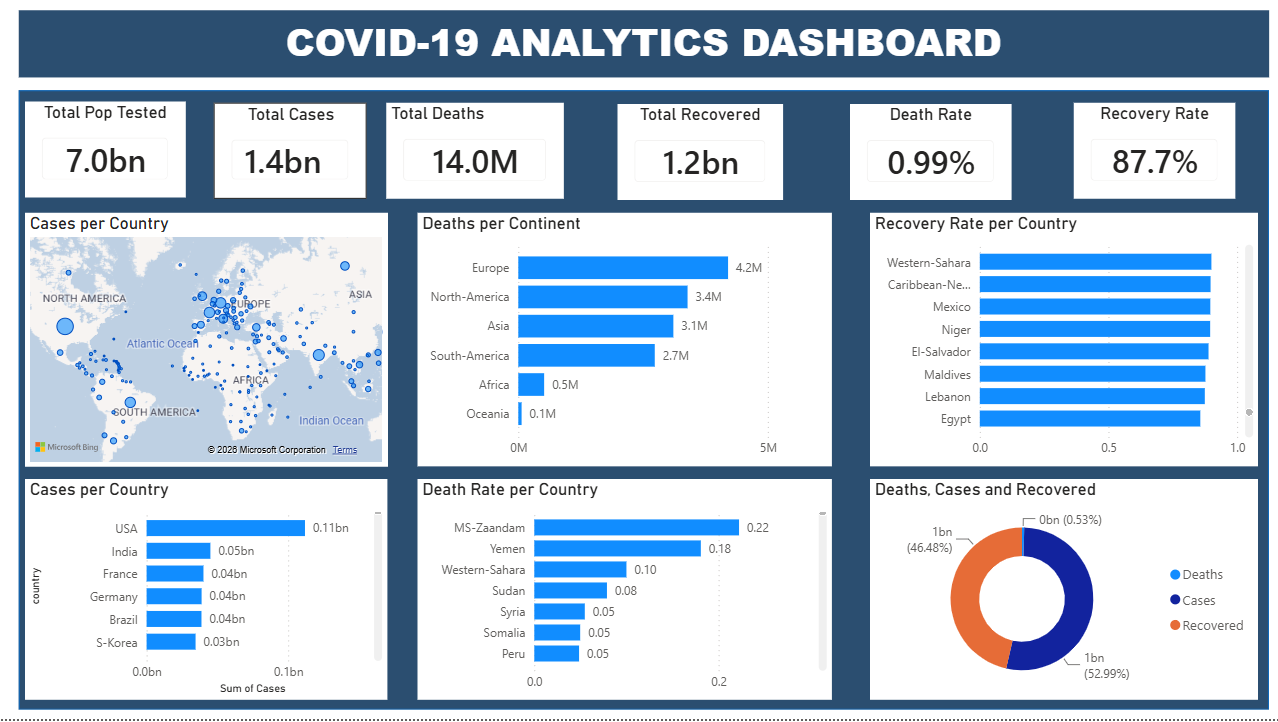

The dashboard page shown, as its layout file describes it:
{"tool":"powerbi","page":{"name":"Dashboard","canvas":[1280,720],"ordinal":2},"visuals":[{"type":"textbox","box":[18.7,11.2,1250.2,67.2],"z":0},{"type":"shape","box":[18.7,90.8,1250.2,619.5],"z":1},{"type":"cardVisual","title":"Total Cases","fields":{"Data":["Sum(covid_19.Cases)"]},"box":[214,103.2,153,95.8],"z":2},{"type":"cardVisual","title":"Total Deaths","fields":{"Data":["Sum(covid_19.Deaths)"]},"box":[386.9,103.2,177.9,95.8],"z":3},{"type":"cardVisual","title":"Total Recovered","fields":{"Data":["Sum(covid_19.Recovered)"]},"box":[617,104.5,165.4,95.8],"z":4},{"type":"cardVisual","title":"Total Pop Tested","fields":{"Data":["Sum(covid_19.Tests)"]},"box":[24.7,102.9,160.5,96.1],"z":5},{"type":"cardVisual","title":"Recovery Rate","fields":{"Data":["covid_19.Recovery_Rate"]},"box":[1073.5,103.2,161.7,95.8],"z":6},{"type":"cardVisual","title":"Death Rate","fields":{"Data":["covid_19.Death_Rate"]},"box":[849.6,104.5,161.7,95.8],"z":7},{"type":"clusteredBarChart","title":"Cases per Country","fields":{"Category":["covid_19.country"],"Y":["Sum(covid_19.Cases)"]},"box":[24.7,480.3,362.3,220.9],"z":8},{"type":"map","title":"Cases per Country","fields":{"Category":["covid_19.country"],"Size":["Sum(covid_19.Cases)"]},"box":[24.7,214.1,362.3,253.9],"z":9},{"type":"clusteredBarChart","title":"Deaths per Continent","fields":{"Category":["covid_19.continent"],"Y":["Sum(covid_19.Deaths)"]},"box":[417.2,214.1,414.4,253.9],"z":10},{"type":"donutChart","title":"Deaths, Cases and Recovered","fields":{"Y":["Sum(covid_19.Deaths)","Sum(covid_19.Cases)","Sum(covid_19.Recovered)"]},"box":[870,480.3,388.3,220.9],"z":12},{"type":"clusteredBarChart","title":"Death Rate per Country","fields":{"Y":["covid_19.Death_Rate"],"Category":["covid_19.country"]},"box":[417.2,480.3,414.4,220.9],"z":13},{"type":"clusteredBarChart","title":"Recovery Rate per Country","fields":{"Y":["covid_19.Recovery_Rate"],"Category":["covid_19.country"]},"box":[870,214.1,388.3,253.9],"z":14}]}

Visuals, with their boxes in screenshot pixels (x1, y1, x2, y2), scaled from the page's 1280x720 canvas onto the 1278x722 screenshot:
textbox: (19, 11, 1267, 79)
shape: (19, 91, 1267, 712)
"Total Cases" cardVisual: (214, 103, 366, 200)
"Total Deaths" cardVisual: (386, 103, 564, 200)
"Total Recovered" cardVisual: (616, 105, 781, 201)
"Total Pop Tested" cardVisual: (25, 103, 185, 200)
"Recovery Rate" cardVisual: (1072, 103, 1233, 200)
"Death Rate" cardVisual: (848, 105, 1010, 201)
"Cases per Country" clusteredBarChart: (25, 482, 386, 703)
"Cases per Country" map: (25, 215, 386, 469)
"Deaths per Continent" clusteredBarChart: (417, 215, 830, 469)
"Deaths, Cases and Recovered" donutChart: (869, 482, 1256, 703)
"Death Rate per Country" clusteredBarChart: (417, 482, 830, 703)
"Recovery Rate per Country" clusteredBarChart: (869, 215, 1256, 469)
